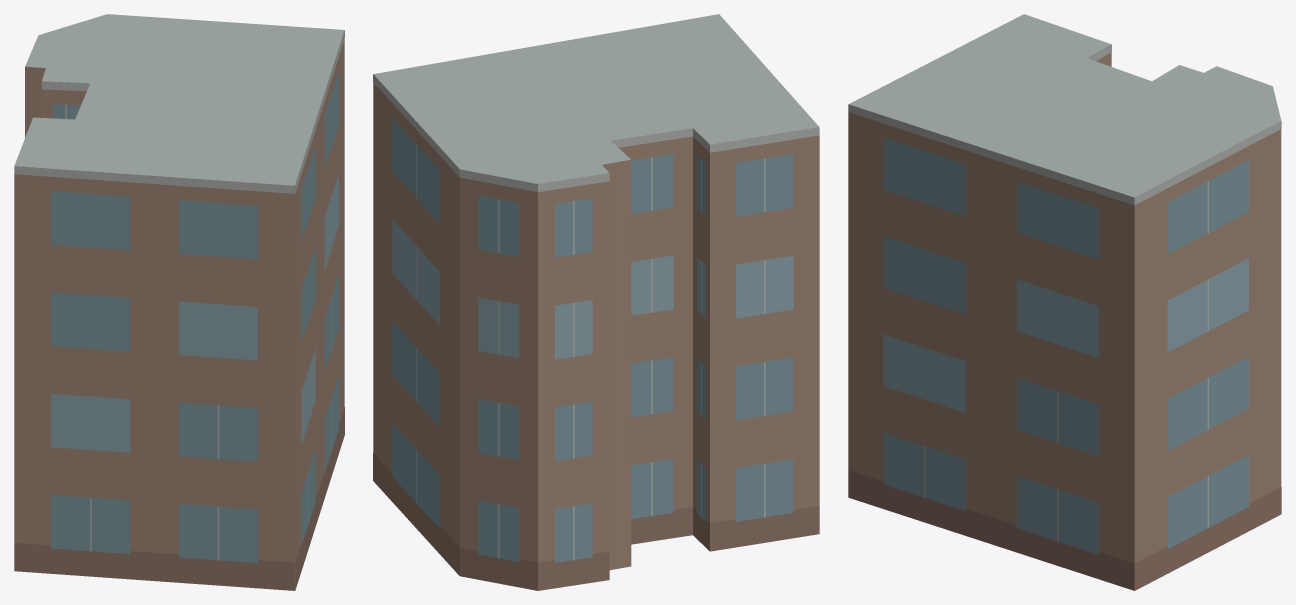
File: survey-upis-32602307.glb
The picture shows the model from 3 angles, left to right: view 1: azimuth 30°, elevation 25°; view 2: azimuth 150°, elevation 25°; view 3: azimuth 270°, elevation 25°; orthographic projection. The views are drawn at different scales.
Parts seen in each view (by area): view 1: survey-upis-32602307.tmp; view 2: survey-upis-32602307.tmp; view 3: survey-upis-32602307.tmp.
Boxes of the visible parts, bbox=[...] form: survey-upis-32602307.tmp: bbox=[14, 14, 344, 590]; survey-upis-32602307.tmp: bbox=[373, 14, 819, 590]; survey-upis-32602307.tmp: bbox=[848, 14, 1281, 590].
Size of the model in its own units: 12.22 by 12.2 by 12.18.
